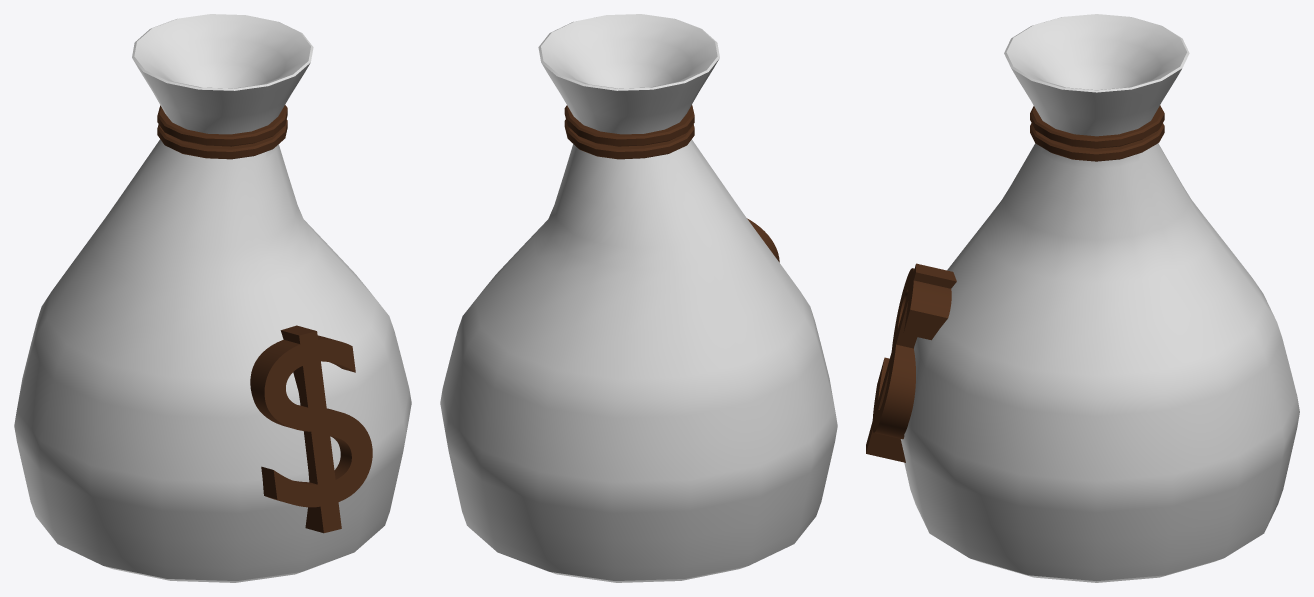
File: 398ModelsV2.fbx
The picture shows the model from 3 angles, left to right: view 1: azimuth 30°, elevation 25°; view 2: azimuth 150°, elevation 25°; view 3: azimuth 270°, elevation 25°; orthographic projection.
Visible parts, largest first — view 1: MoneyBag; view 2: MoneyBag; view 3: MoneyBag.
Boxes of the visible parts, box(x1,y1,x2,y2) form: MoneyBag: box(14, 14, 411, 582); MoneyBag: box(440, 14, 837, 582); MoneyBag: box(866, 14, 1299, 582).
Size of the model in its own units: 672 by 906 by 718.
